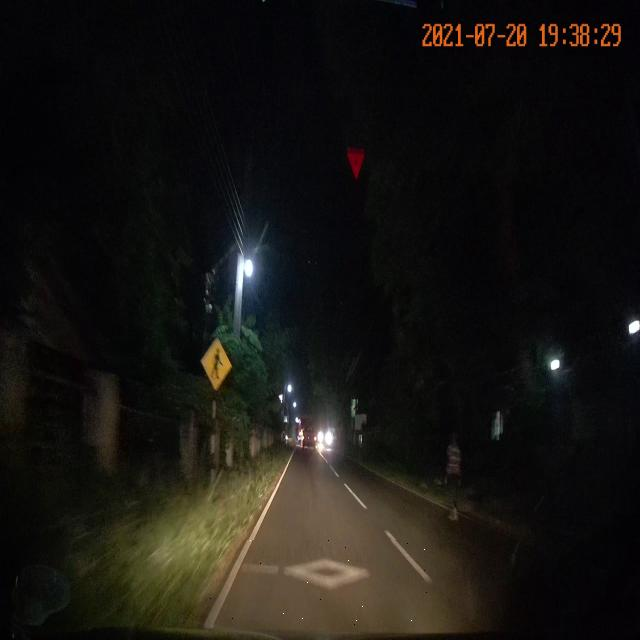diamond: (200, 540, 443, 625)
